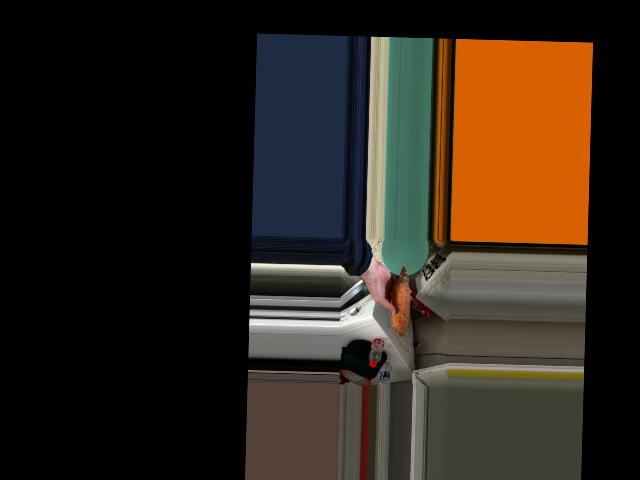sweet_potato: (392, 273, 409, 334)
